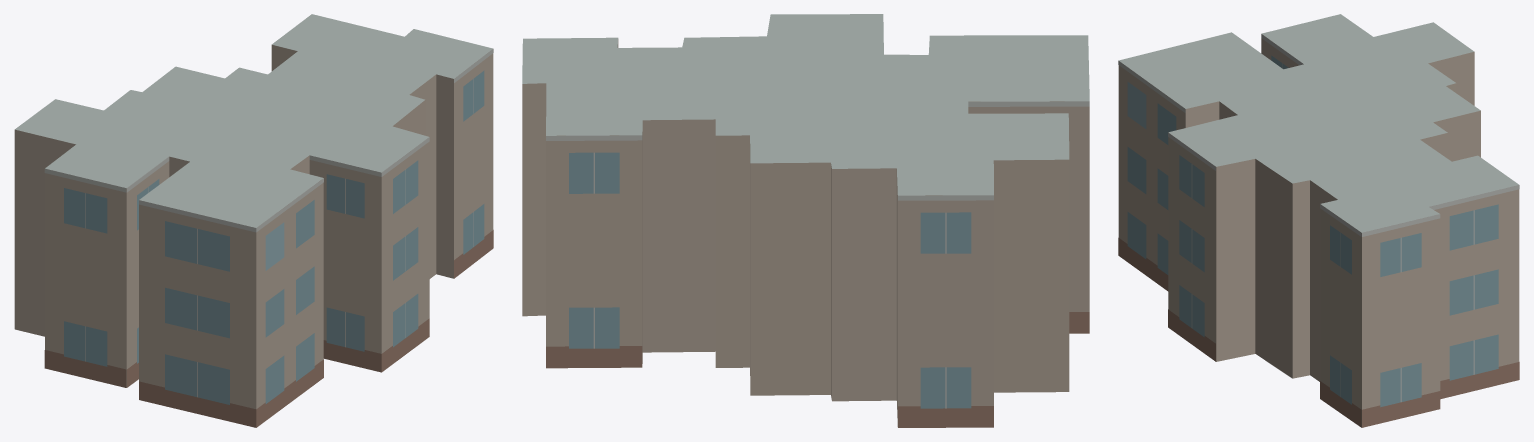
The model's file is survey-upis-32473616.glb.
The picture shows the model from 3 angles, left to right: view 1: azimuth 30°, elevation 25°; view 2: azimuth 150°, elevation 25°; view 3: azimuth 270°, elevation 25°; orthographic projection. The views are drawn at different scales.
Parts seen in each view (by area): view 1: survey-upis-32473616.tmp; view 2: survey-upis-32473616.tmp; view 3: survey-upis-32473616.tmp.
Part boxes in pixels (bbox=[...]): survey-upis-32473616.tmp: bbox=[14, 14, 493, 427]; survey-upis-32473616.tmp: bbox=[522, 14, 1089, 427]; survey-upis-32473616.tmp: bbox=[1118, 14, 1519, 427].
Bounding box in the file's own units: 26.22 × 10.9 × 20.31.
